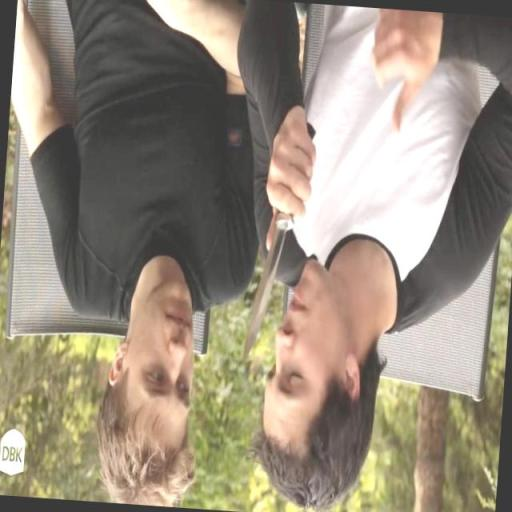knife: (242, 117, 317, 368)
